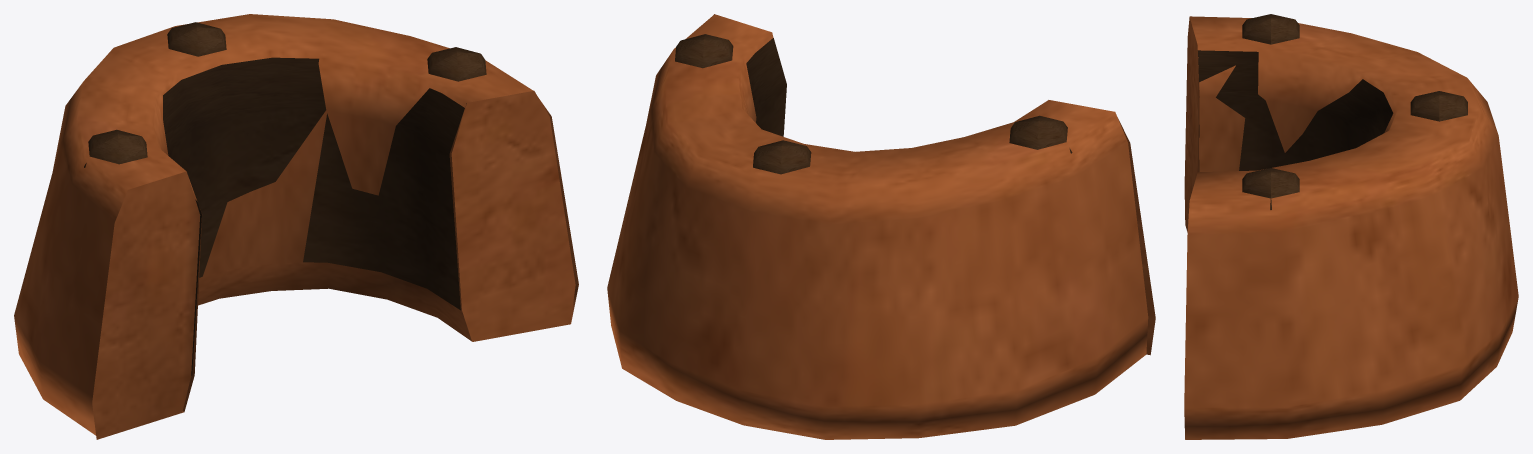
Rendered from prop_chula_lod2.glb.
3 views of the same model, side by side, from view 1: azimuth 30°, elevation 25°; view 2: azimuth 150°, elevation 25°; view 3: azimuth 270°, elevation 25° (orthographic). The views are drawn at different scales.
Visible parts, largest first — view 1: prop_chula; view 2: prop_chula; view 3: prop_chula.
Boxes of the visible parts, x1,y1,x2,y2 form: prop_chula: [14, 14, 578, 439]; prop_chula: [607, 14, 1155, 439]; prop_chula: [1184, 14, 1518, 439].
Size of the model in its own units: 0.5 by 0.25 by 0.32.
2 materials, 2 textured.
